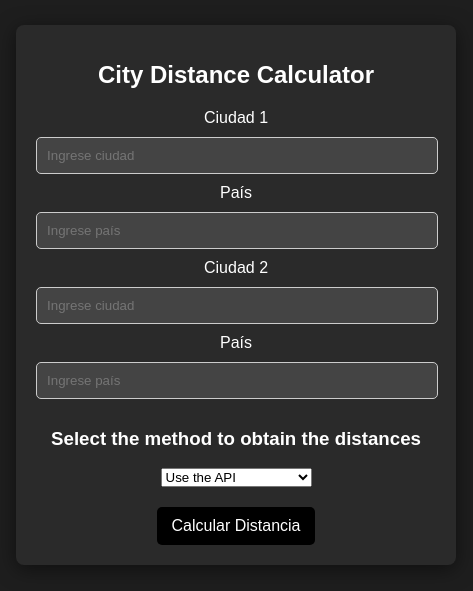
Test: App Component - Distance Calculation › successfully calculates distance between two valid cities
Select "Use the API" in the dropdown. click: (236, 478)
box: left=160, top=468, right=312, bottom=487
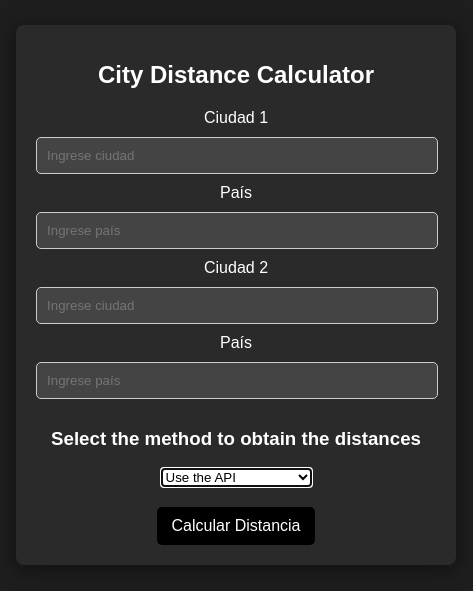
Type "Lima" into the field with test id "ciudad1-city". click: (237, 155)
box: left=36, top=137, right=438, bottom=174
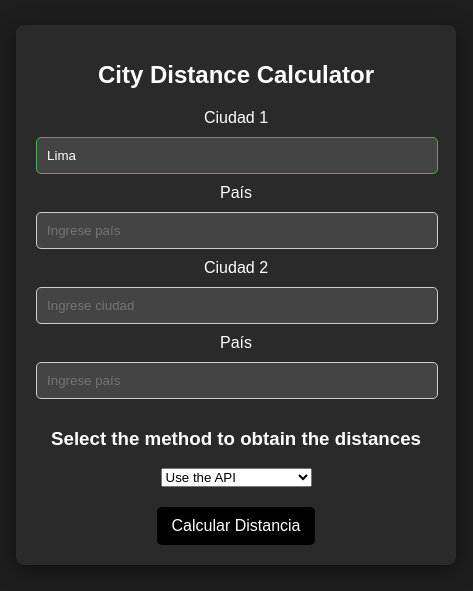
Type "Peru" into the field with test id "ciudad1-country". click: (237, 230)
box: left=36, top=212, right=438, bottom=249
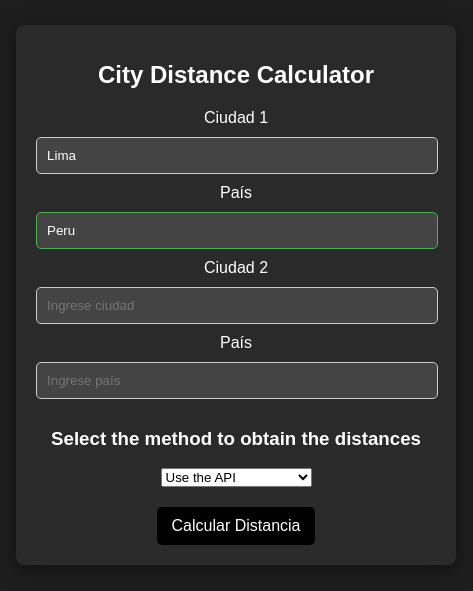
Type "Paris" into the field with test id "ciudad2-city". click: (237, 305)
box: left=36, top=287, right=438, bottom=324
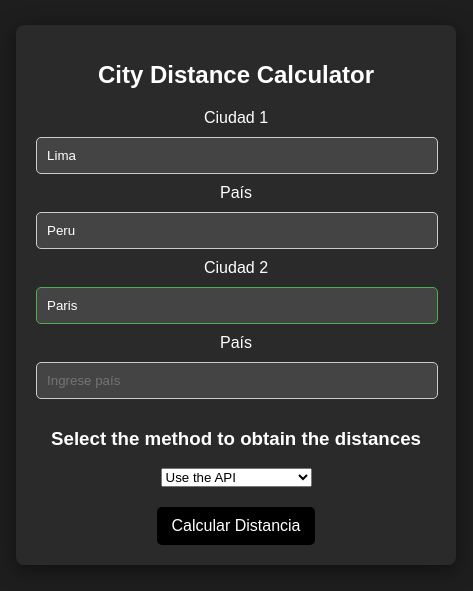
Type "France" into the field with test id "ciudad2-country". click: (237, 380)
box: left=36, top=362, right=438, bottom=399
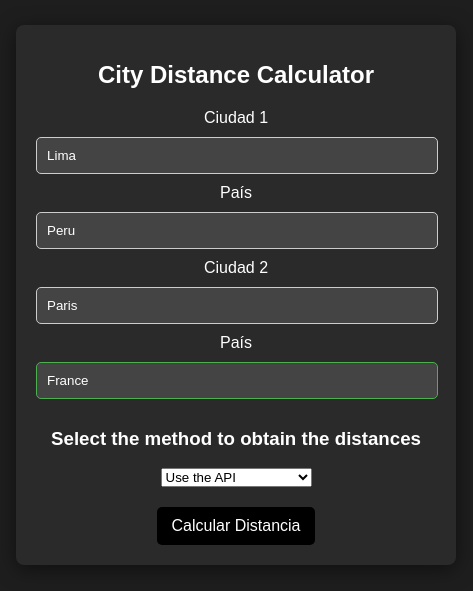
Click the button "Calcular Distancia". click: (236, 526)
box: left=156, top=507, right=315, bottom=545
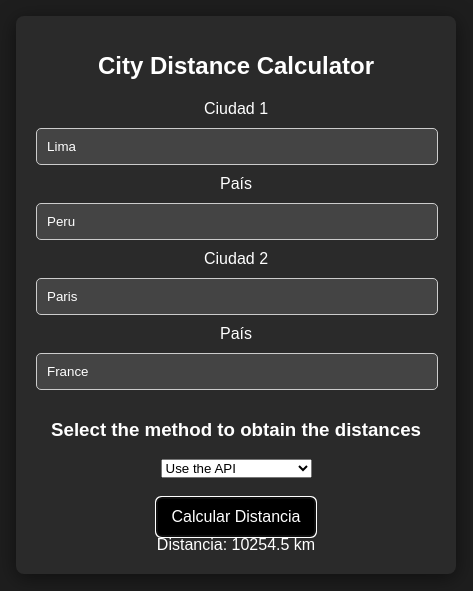
Now the text with test id "distance-result" shows "10254.5", box left=232, top=536, right=289, bottom=553
